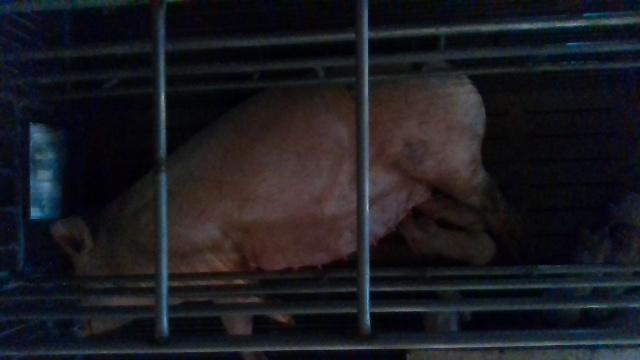piglet: (542, 227, 611, 326), (400, 215, 497, 267), (587, 242, 640, 326), (417, 192, 485, 230), (422, 288, 471, 333), (608, 193, 640, 228)
sow-sleep-lactate: (51, 63, 520, 360)
